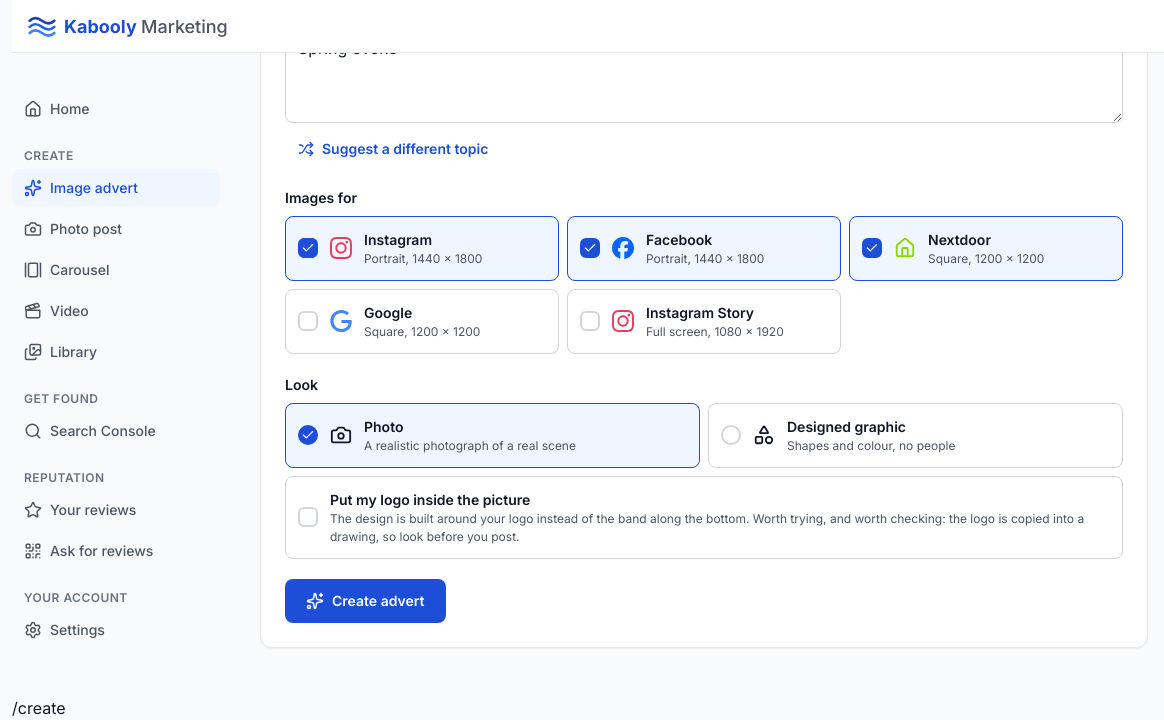
Test: switching between pages › starts each page fresh, without the last result
(page scrolled)
Expected: the text box with test id "topic-input" holds "Spring ovens", [285,26,1123,122]
Click the button with test id "generate": (365,600) [285,578,446,622]
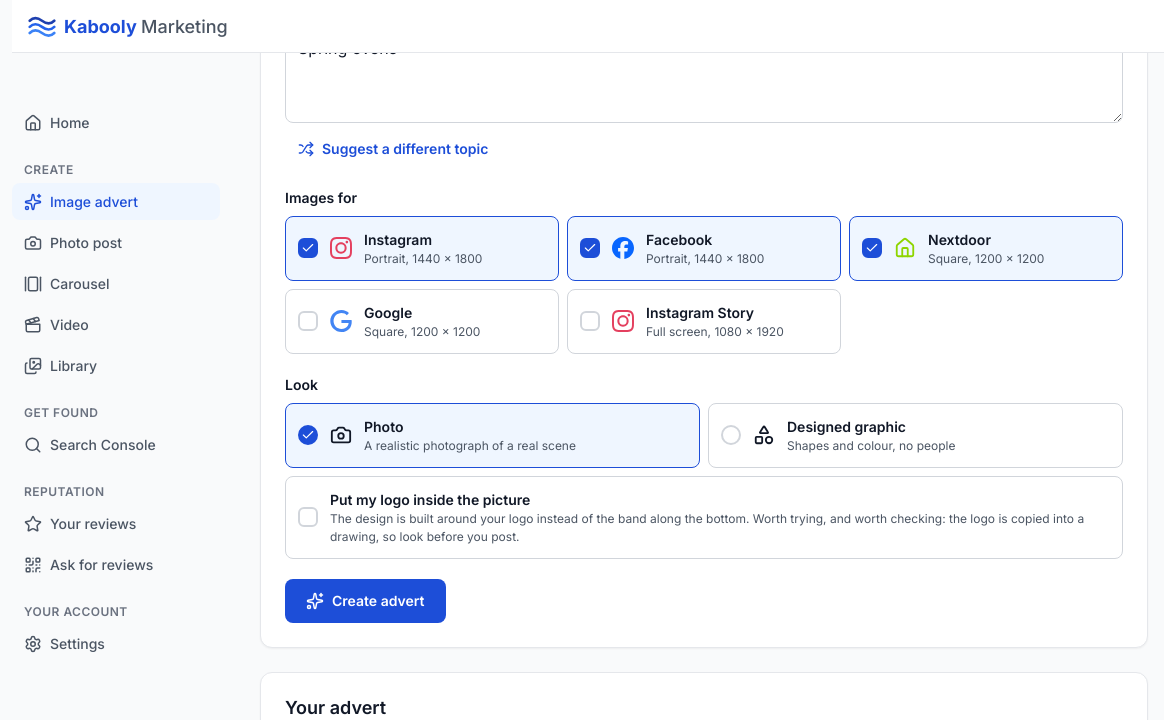
Click the link "Carousel": (67,284) [24,274,110,292]
(page scrolled)
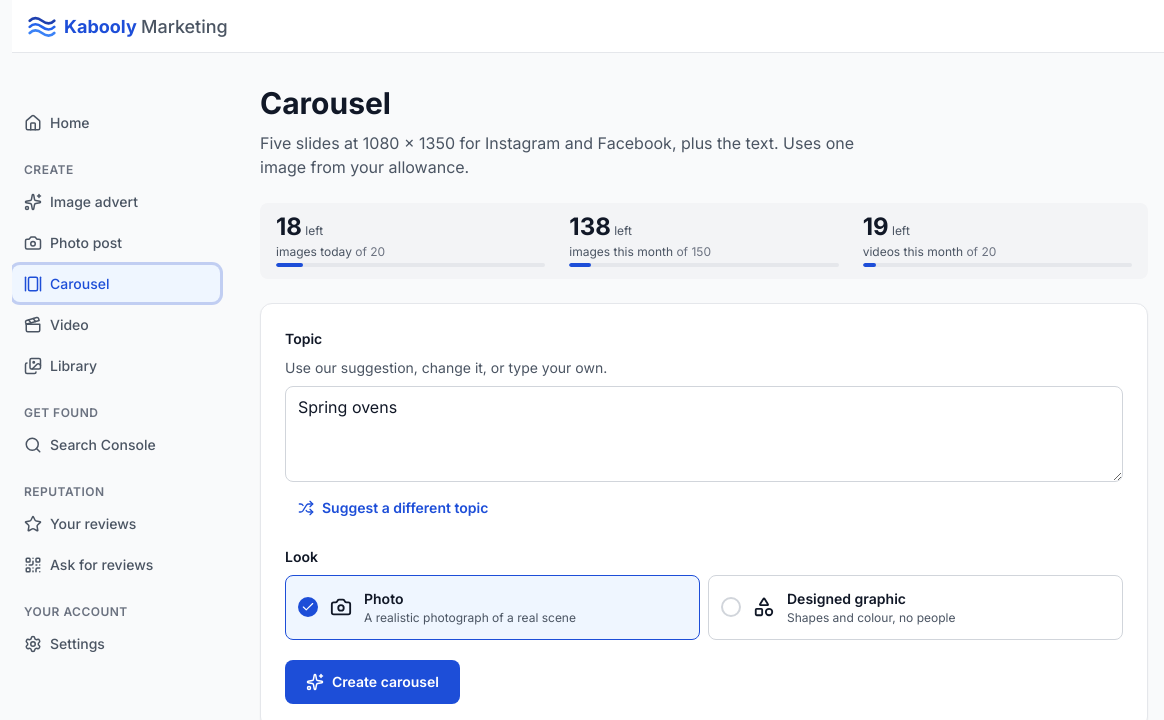
Expected: the heading "Carousel" is shown, [260,85,391,121]
